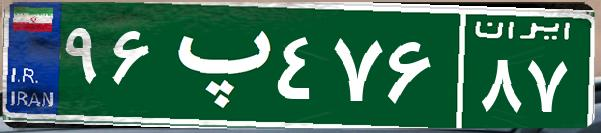4: (273, 28, 330, 110)
6: (385, 28, 445, 110), (110, 28, 158, 105)
7: (330, 28, 385, 110), (525, 38, 570, 115)
8: (475, 38, 525, 113)
9: (57, 26, 110, 107)
پ: (158, 15, 273, 115)
